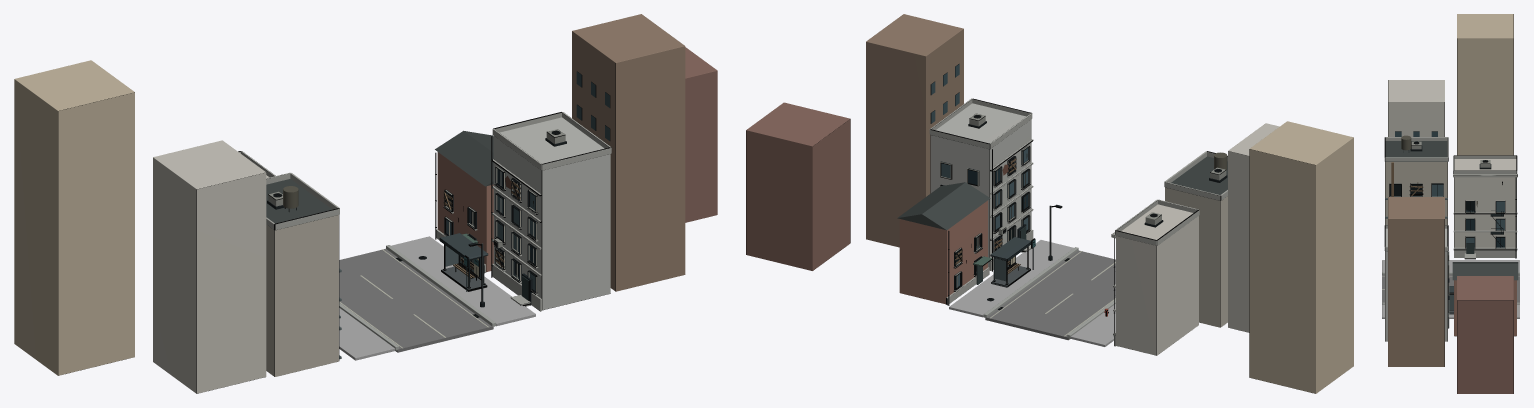
Rendered from city_hd_10.glb.
3 views of the same model, side by side, from view 1: azimuth 30°, elevation 25°; view 2: azimuth 150°, elevation 25°; view 3: azimuth 270°, elevation 25° (orthographic). The views are drawn at different scales.
Visible parts, largest first — view 1: Background city building.001, CITY_PBR_asphalt, CITY_PBR_pavement, CITY_curb; view 2: Background city building.001, CITY_PBR_asphalt, CITY_PBR_pavement, CITY_curb; view 3: Background city building.001, CITY_PBR_pavement, CITY_PBR_asphalt.
Part boxes in pixels (x1,y1,x2,y2): Background city building.001: (14,14,717,393); CITY_PBR_asphalt: (339,248,493,352); CITY_PBR_pavement: (339,236,535,360); CITY_curb: (339,245,495,350); Background city building.001: (746,14,1353,393); CITY_PBR_asphalt: (985,250,1115,340); CITY_PBR_pavement: (949,240,1115,346); CITY_curb: (983,247,1115,338); Background city building.001: (1384,14,1518,393); CITY_PBR_pavement: (1382,260,1519,318); CITY_PBR_asphalt: (1382,275,1519,302).
Size of the model in its own units: 57.3 by 22.26 by 16.
5 materials, 1 textured.
